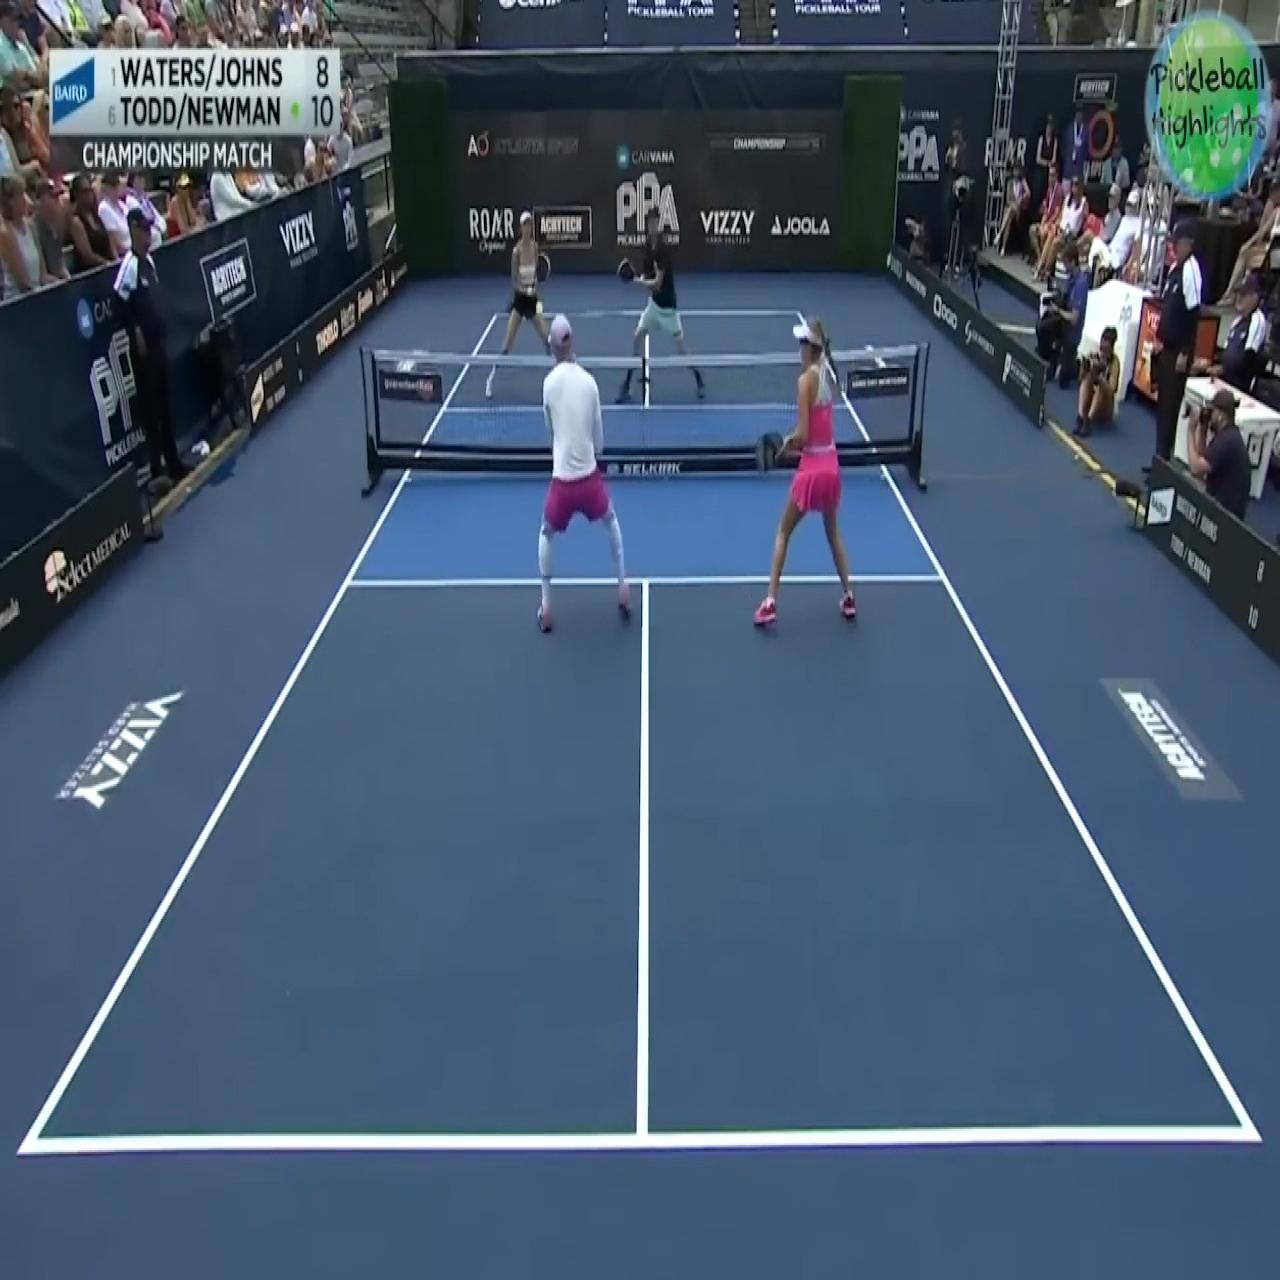Pickleball: (535, 295, 544, 318)
